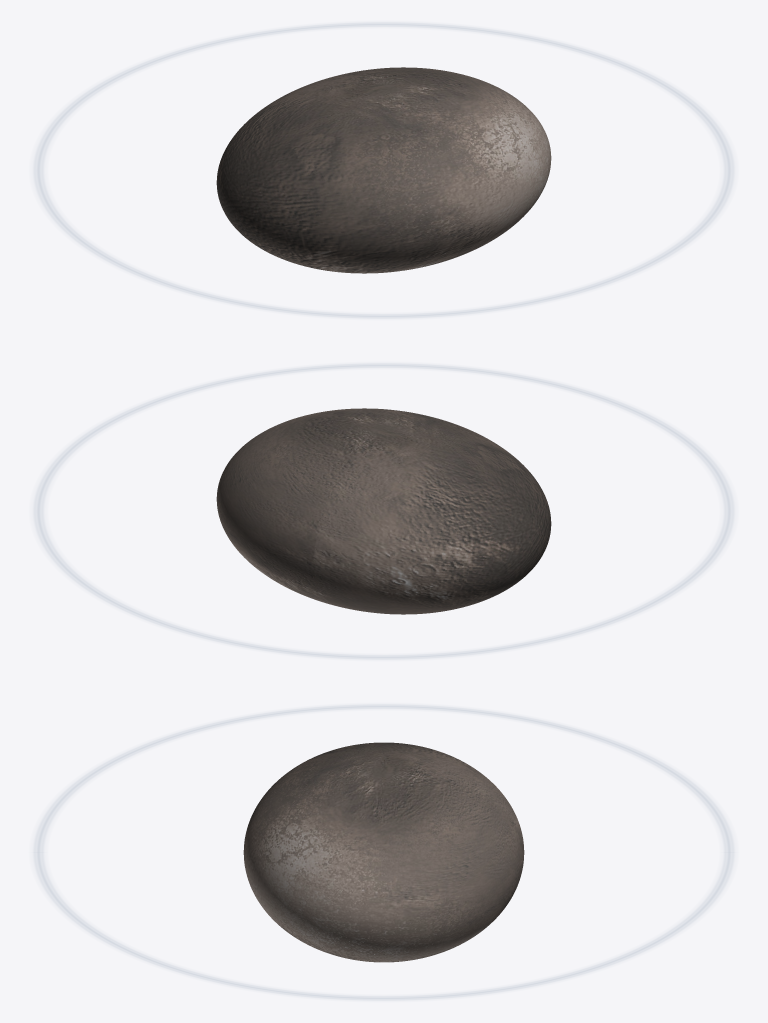
Rendered from haumea.glb.
3 views of the same model, one above another, from view 1: azimuth 30°, elevation 25°; view 2: azimuth 150°, elevation 25°; view 3: azimuth 270°, elevation 25° (orthographic).
Parts seen in each view (by area): view 1: haumea_body, haumea_rings; view 2: haumea_body, haumea_rings; view 3: haumea_body, haumea_rings.
Part boxes in pixels (x1,y1,x2,y2): haumea_body: (216,67,551,273); haumea_rings: (32,22,735,318); haumea_body: (216,408,551,614); haumea_rings: (32,363,735,659); haumea_body: (243,742,524,962); haumea_rings: (31,704,736,1000).
Size of the model in its own units: 4.22 by 1.02 by 4.22.
2 materials, 2 textured.
